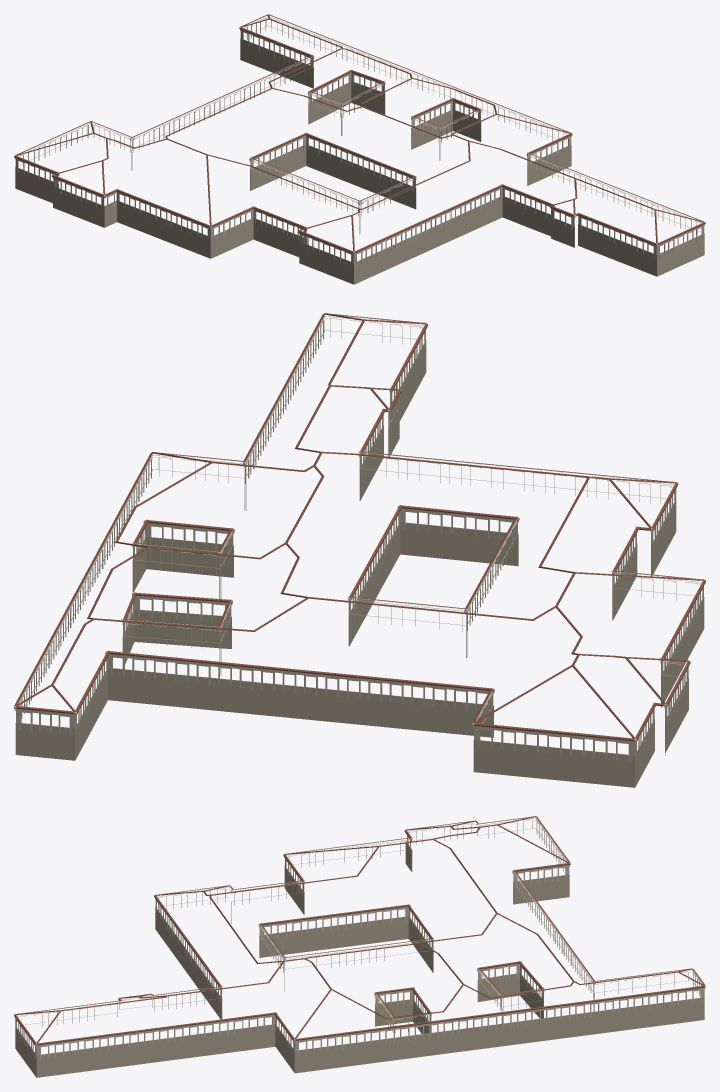
3 renders of one model, top to bottom at view 1: azimuth 30°, elevation 25°; view 2: azimuth 150°, elevation 25°; view 3: azimuth 270°, elevation 25°, orthographic. The views are drawn at different scales.
Parts seen in each view (by area): view 1: detail; view 2: detail; view 3: detail.
Part boxes in pixels (left/top/right/bottom): detail: left=14, top=14, right=705, bottom=284; detail: left=14, top=313, right=705, bottom=787; detail: left=14, top=816, right=705, bottom=1077.
Bounding box in the file's own units: 93.24 × 12.1 × 119.
